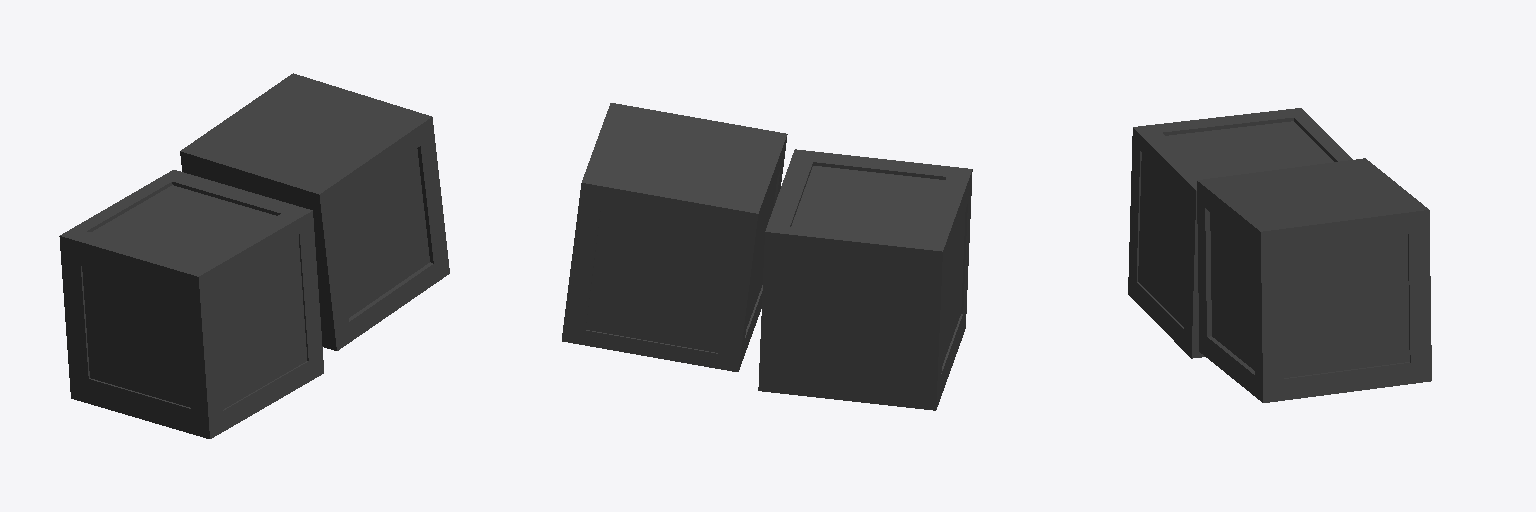
The model's file is caixote.obj.
The picture shows the model from 3 angles: view 1: azimuth 30°, elevation 25°; view 2: azimuth 150°, elevation 25°; view 3: azimuth 270°, elevation 25°; orthographic projection.
Parts seen in each view (by area): view 1: Cube.003_Cube.005, Cube.002_Cube.004; view 2: Cube.003_Cube.005, Cube.002_Cube.004; view 3: Cube.002_Cube.004, Cube.003_Cube.005.
Part boxes in pixels (x1,y1,x2,y2): Cube.003_Cube.005: (59,170,323,438); Cube.002_Cube.004: (180,73,449,350); Cube.003_Cube.005: (758,149,972,410); Cube.002_Cube.004: (562,103,787,371); Cube.002_Cube.004: (1197,158,1431,402); Cube.003_Cube.005: (1128,108,1352,358).
Bounding box in the file's own units: 4.75 × 2.58 × 3.37.